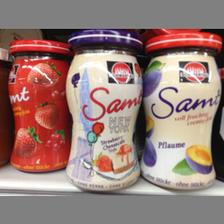Marmelade: (141, 31, 221, 191), (66, 28, 142, 192), (7, 40, 67, 172)
